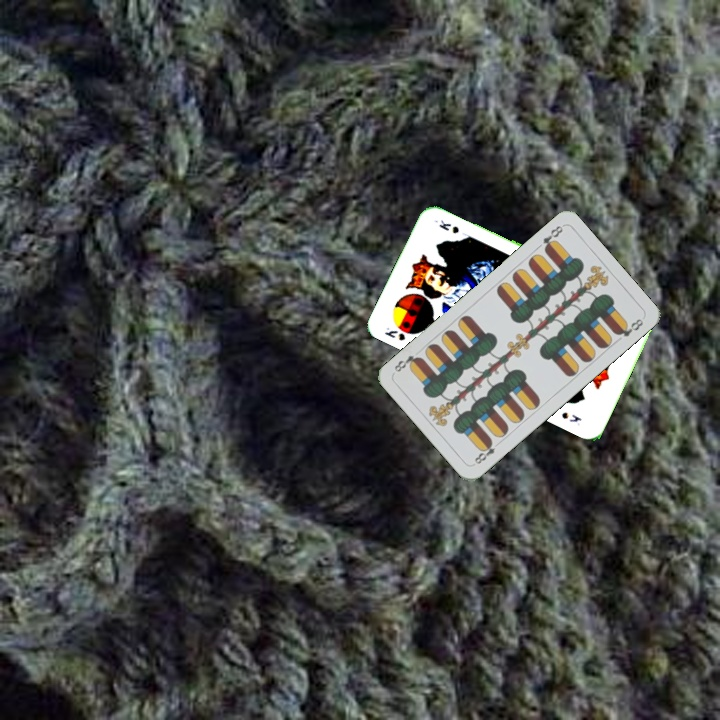E8: (538, 221, 566, 254), (469, 436, 498, 467)
SK: (380, 323, 408, 343)
